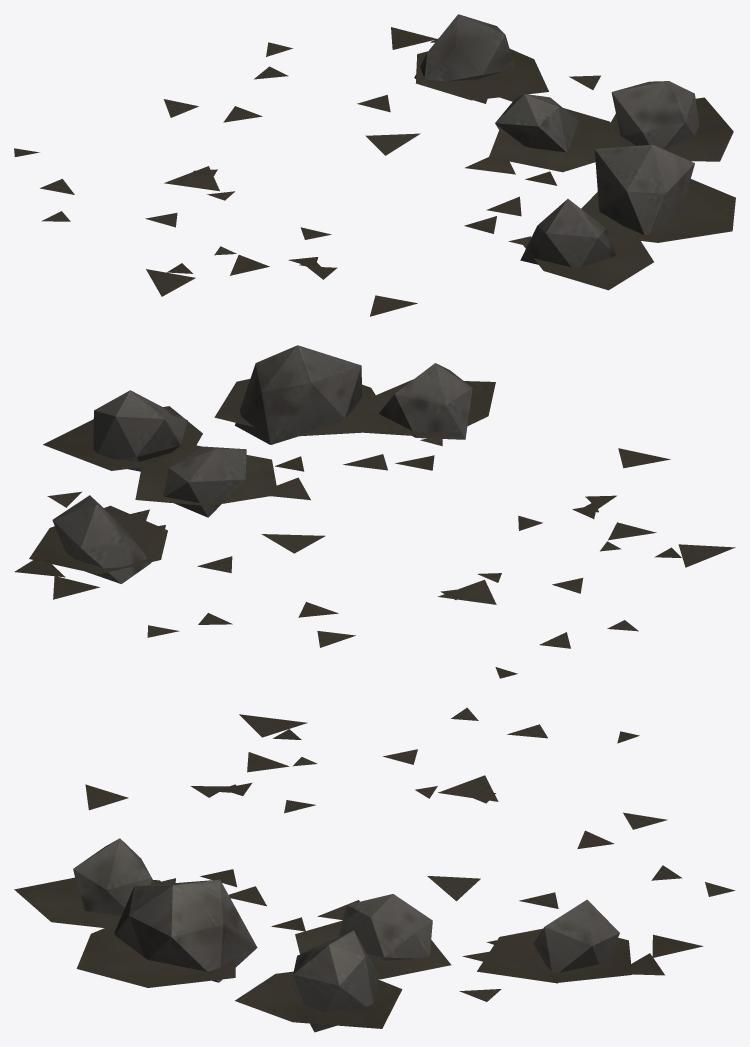
Rendered from coal-sparse.glb.
3 renders of one model, top to bottom at view 1: azimuth 30°, elevation 25°; view 2: azimuth 150°, elevation 25°; view 3: azimuth 270°, elevation 25°, orthographic. The views are drawn at different scales.
Visible parts, largest first — view 1: coal-sparse; view 2: coal-sparse; view 3: coal-sparse.
Part boxes in pixels (x1,y1,x2,y2): coal-sparse: (14, 14, 735, 316); coal-sparse: (14, 345, 735, 678); coal-sparse: (14, 707, 735, 1032).
Bounding box in the file's own units: 1.26 × 0.1574 × 1.19.
1 material, 1 textured.
